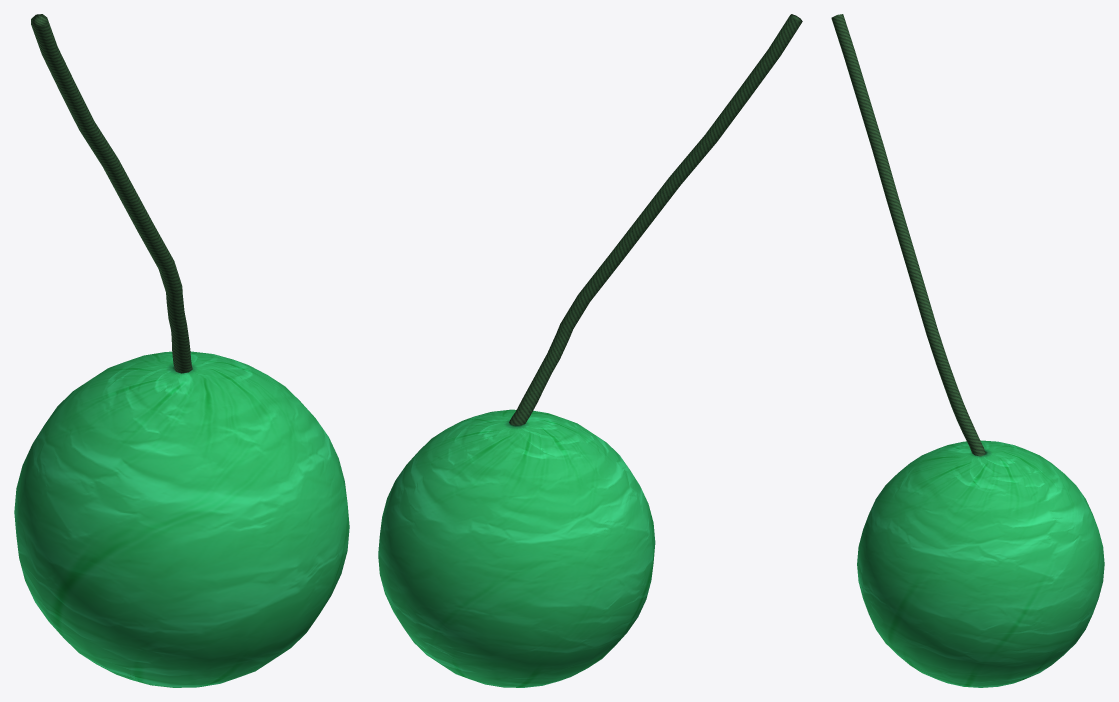
File: bomb6.fbx
The picture shows the model from 3 angles, left to right: view 1: azimuth 30°, elevation 25°; view 2: azimuth 150°, elevation 25°; view 3: azimuth 270°, elevation 25°; orthographic projection. The views are drawn at different scales.
Visible parts, largest first — view 1: polySurface1, polySurface2; view 2: polySurface1, polySurface2; view 3: polySurface1, polySurface2.
Boxes of the visible parts, x1,y1,x2,y2 form: polySurface1: (14, 351, 349, 687); polySurface2: (31, 14, 192, 373); polySurface1: (378, 409, 655, 687); polySurface2: (509, 14, 802, 425); polySurface1: (857, 440, 1104, 687); polySurface2: (831, 14, 985, 456).
Size of the model in its own units: 10.78 by 20.57 by 8.83.
1 material, 1 textured.
